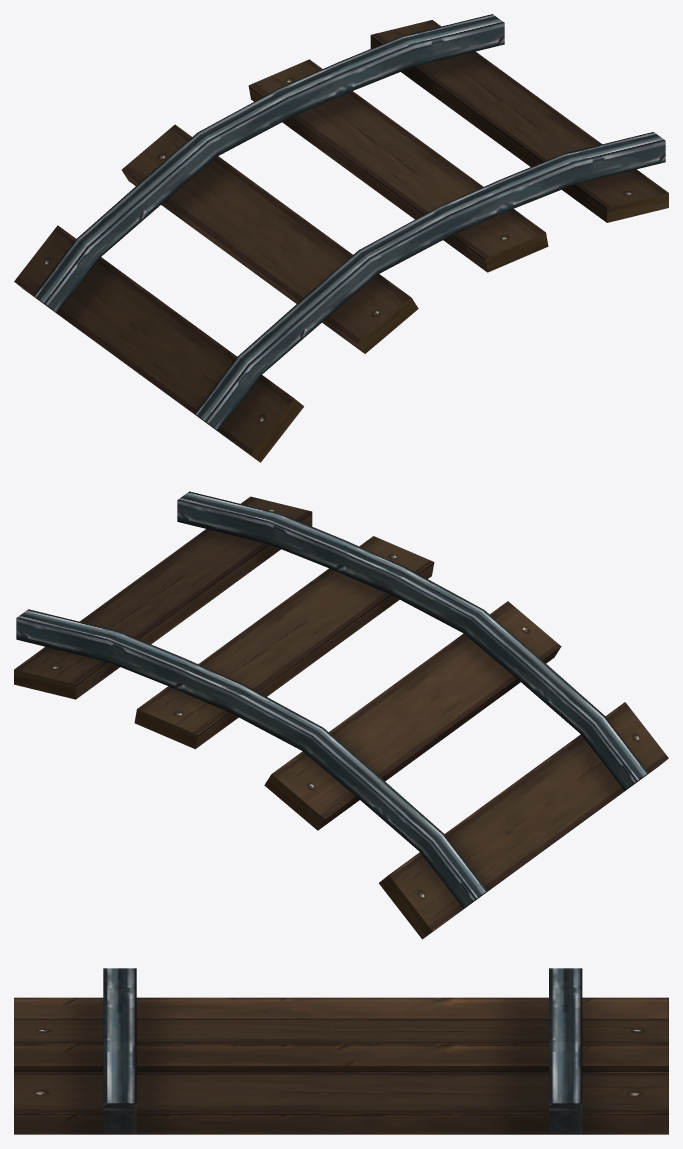
File: rail10.FBX
3 renders of one model, top to bottom at view 1: azimuth 30°, elevation 25°; view 2: azimuth 150°, elevation 25°; view 3: azimuth 270°, elevation 25°, orthographic. The views are drawn at different scales.
Parts seen in each view (by area): view 1: rail10; view 2: rail10; view 3: rail10.
Boxes of the visible parts, box(x1,y1,x2,y2) form: rail10: box(14, 14, 668, 462); rail10: box(14, 491, 668, 939); rail10: box(14, 968, 668, 1134).
Size of the model in its own units: 134 by 53.41 by 119.
